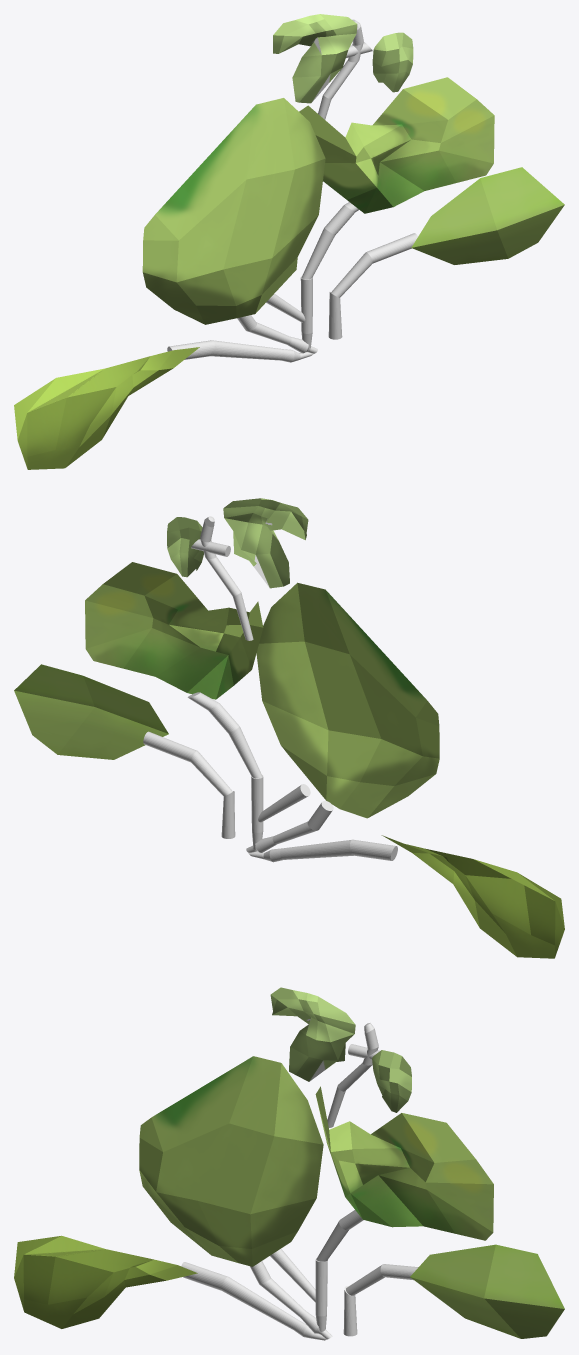
Rendered from leaf1.fbx.
3 views of the same model, one above another, from view 1: azimuth 30°, elevation 25°; view 2: azimuth 150°, elevation 25°; view 3: azimuth 330°, elevation 25° (orthographic).
Parts seen in each view (by area): view 1: Plane.003, Plane.002, Plane, Plane.001, Plane.004, Plane.005, Cylinder.003, Cylinder.006, Cylinder.005, Cylinder.007, Cylinder.002, Cylinder (+1 smaller); view 2: Plane.003, Plane.002, Plane.001, Plane, Plane.004, Cylinder.003, Plane.005, Cylinder.005, Cylinder.006, Cylinder.007, Cylinder.002, Cylinder (+2 smaller); view 3: Plane.003, Plane.002, Plane.001, Plane, Plane.004, Cylinder.003, Plane.005, Cylinder.002, Cylinder.007, Cylinder.006, Cylinder, Cylinder.005 (+2 smaller).
Part boxes in pixels (x1=…): Plane.003: x1=142, y1=98, x2=325, y2=324; Plane.002: x1=299, y1=77, x2=494, y2=213; Plane: x1=14, y1=347, x2=199, y2=469; Plane.001: x1=411, y1=167, x2=564, y2=264; Plane.004: x1=273, y1=14, x2=357, y2=103; Plane.005: x1=372, y1=32, x2=413, y2=92; Cylinder.003: x1=167, y1=340, x2=313, y2=362; Cylinder.006: x1=331, y1=233, x2=417, y2=297; Cylinder.005: x1=301, y1=202, x2=358, y2=279; Cylinder.007: x1=318, y1=19, x2=363, y2=119; Cylinder.002: x1=237, y1=315, x2=317, y2=353; Cylinder: x1=300, y1=276, x2=312, y2=348; Plane.003: x1=256, y1=582, x2=439, y2=818; Plane.002: x1=85, y1=562, x2=263, y2=699; Plane.001: x1=14, y1=664, x2=168, y2=759; Plane: x1=381, y1=835, x2=564, y2=958; Plane.004: x1=223, y1=498, x2=308, y2=588; Cylinder.003: x1=248, y1=839, x2=397, y2=862; Plane.005: x1=167, y1=517, x2=203, y2=577; Cylinder.005: x1=187, y1=692, x2=262, y2=778; Cylinder.006: x1=143, y1=731, x2=232, y2=796; Cylinder.007: x1=200, y1=516, x2=253, y2=640; Cylinder.002: x1=246, y1=801, x2=333, y2=852; Cylinder: x1=251, y1=775, x2=263, y2=848; Plane.003: x1=139, y1=1056, x2=323, y2=1266; Plane.002: x1=315, y1=1086, x2=493, y2=1240; Plane.001: x1=410, y1=1244, x2=564, y2=1338; Plane: x1=14, y1=1235, x2=197, y2=1328; Plane.004: x1=270, y1=987, x2=355, y2=1081; Cylinder.003: x1=181, y1=1262, x2=326, y2=1340; Plane.005: x1=372, y1=1050, x2=411, y2=1112; Cylinder.002: x1=250, y1=1261, x2=332, y2=1339; Cylinder.007: x1=327, y1=1023, x2=378, y2=1127; Cylinder.006: x1=346, y1=1264, x2=418, y2=1295; Cylinder: x1=315, y1=1258, x2=327, y2=1331; Cylinder.005: x1=316, y1=1210, x2=363, y2=1261.
Size of the model in its own units: 374 by 257 by 32.89.
Materials: 6 (6 with a texture image).
